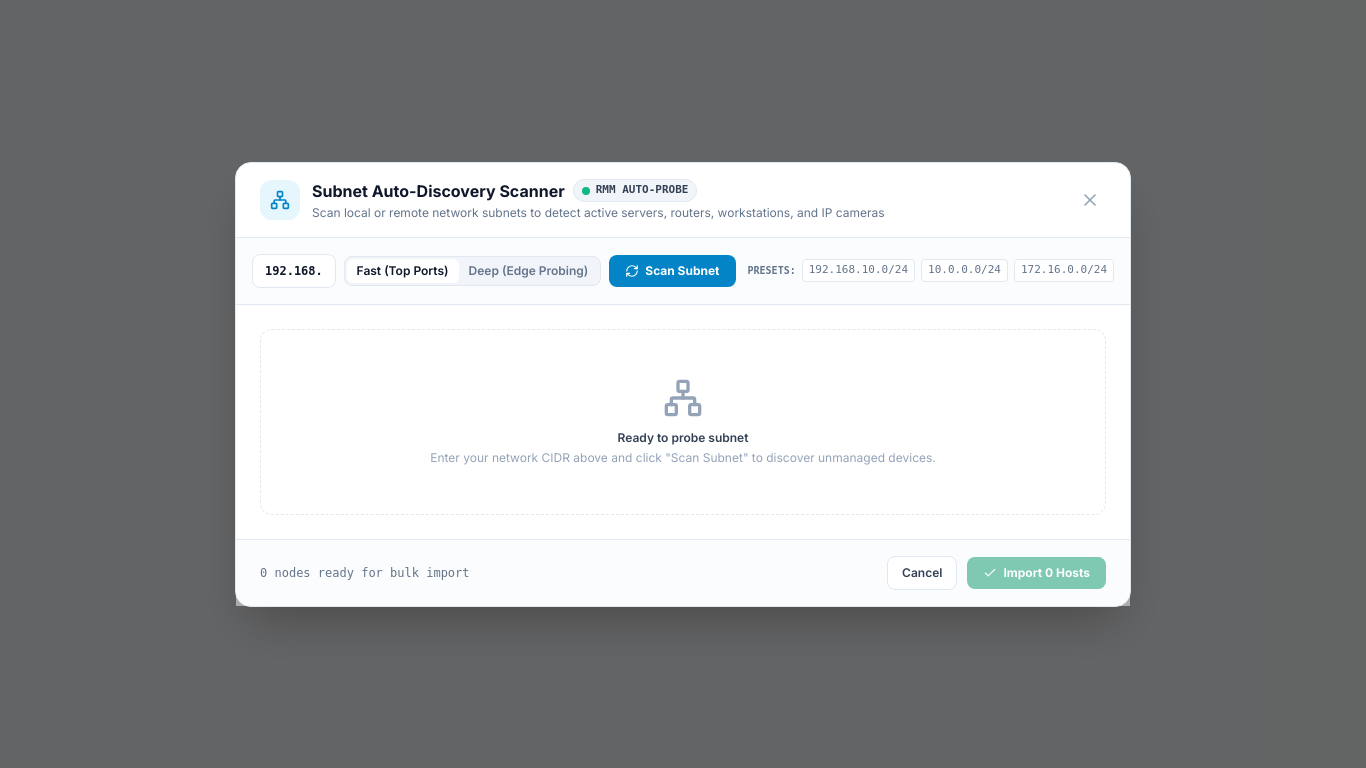
Test: Stage 6 Fleet Automation & Remote Node Management › Subnet Auto-Discovery Scanner Modal › performs bulk import of selected candidates
The image size is (1366, 768).
# Run scan
Click the button with test id "start-scan-btn".
click(672, 270)  # box [609,254,736,286]
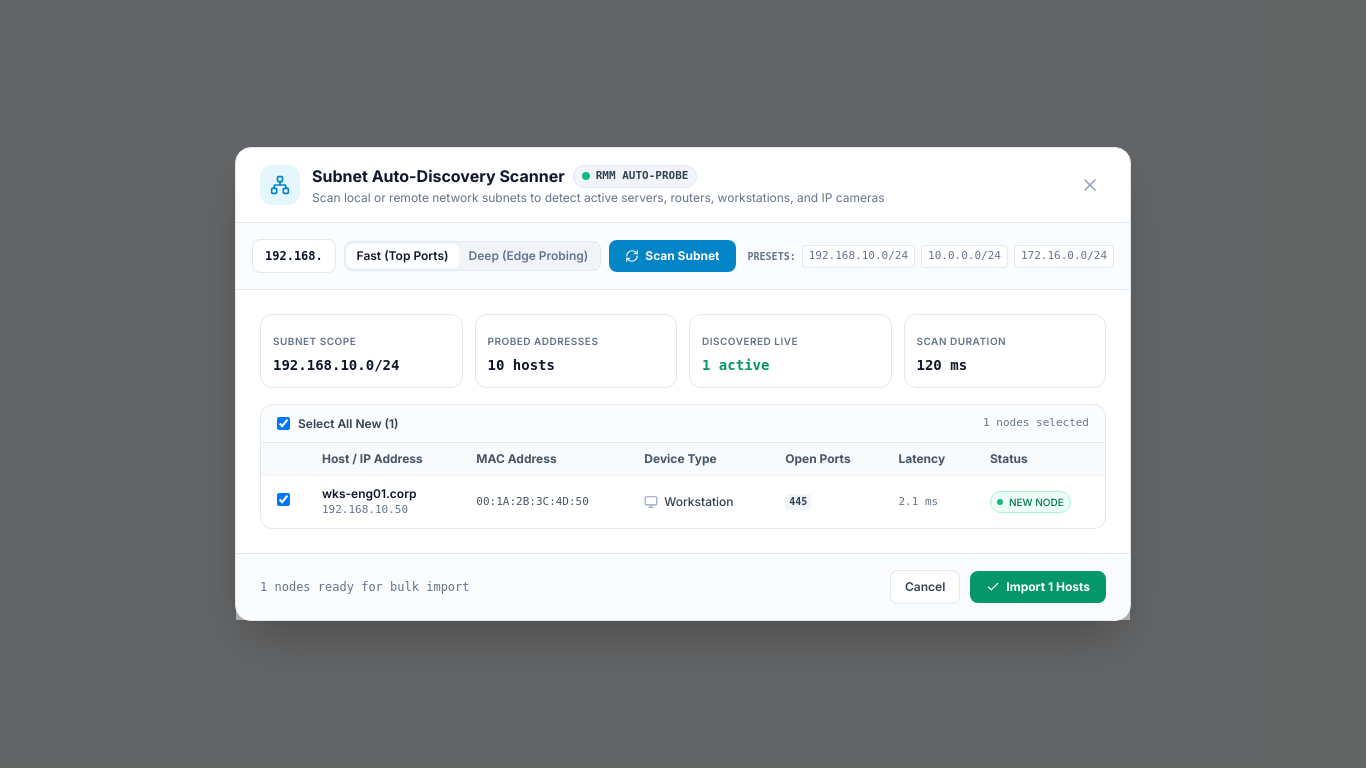
Check: the text "192.168.10.50" is shown, box [322,503,408,516]
# Click import button
Click the button with test id "bulk-import-btn".
click(1038, 587)  # box [970,571,1106,603]
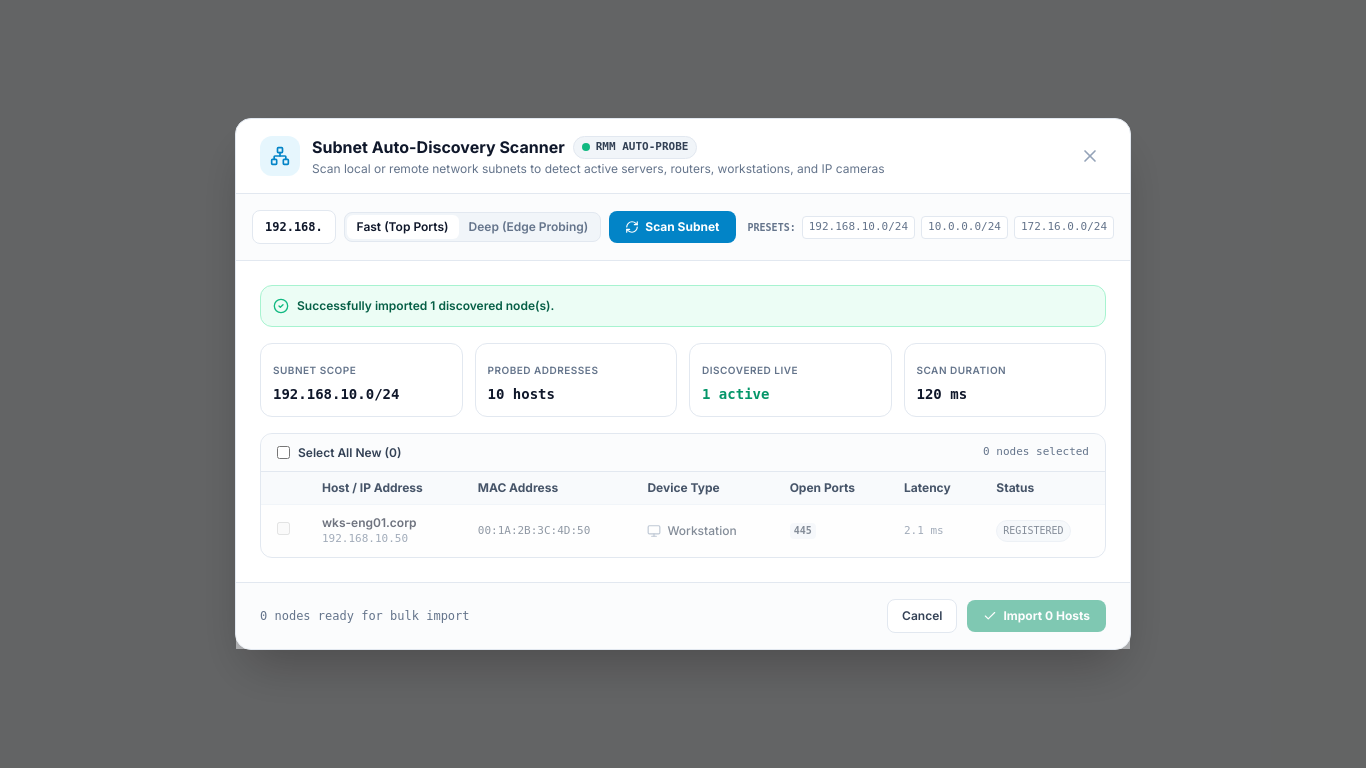
Check: the text "Successfully imported 1 discovered node(s)." is shown, box [297,298,554,314]
